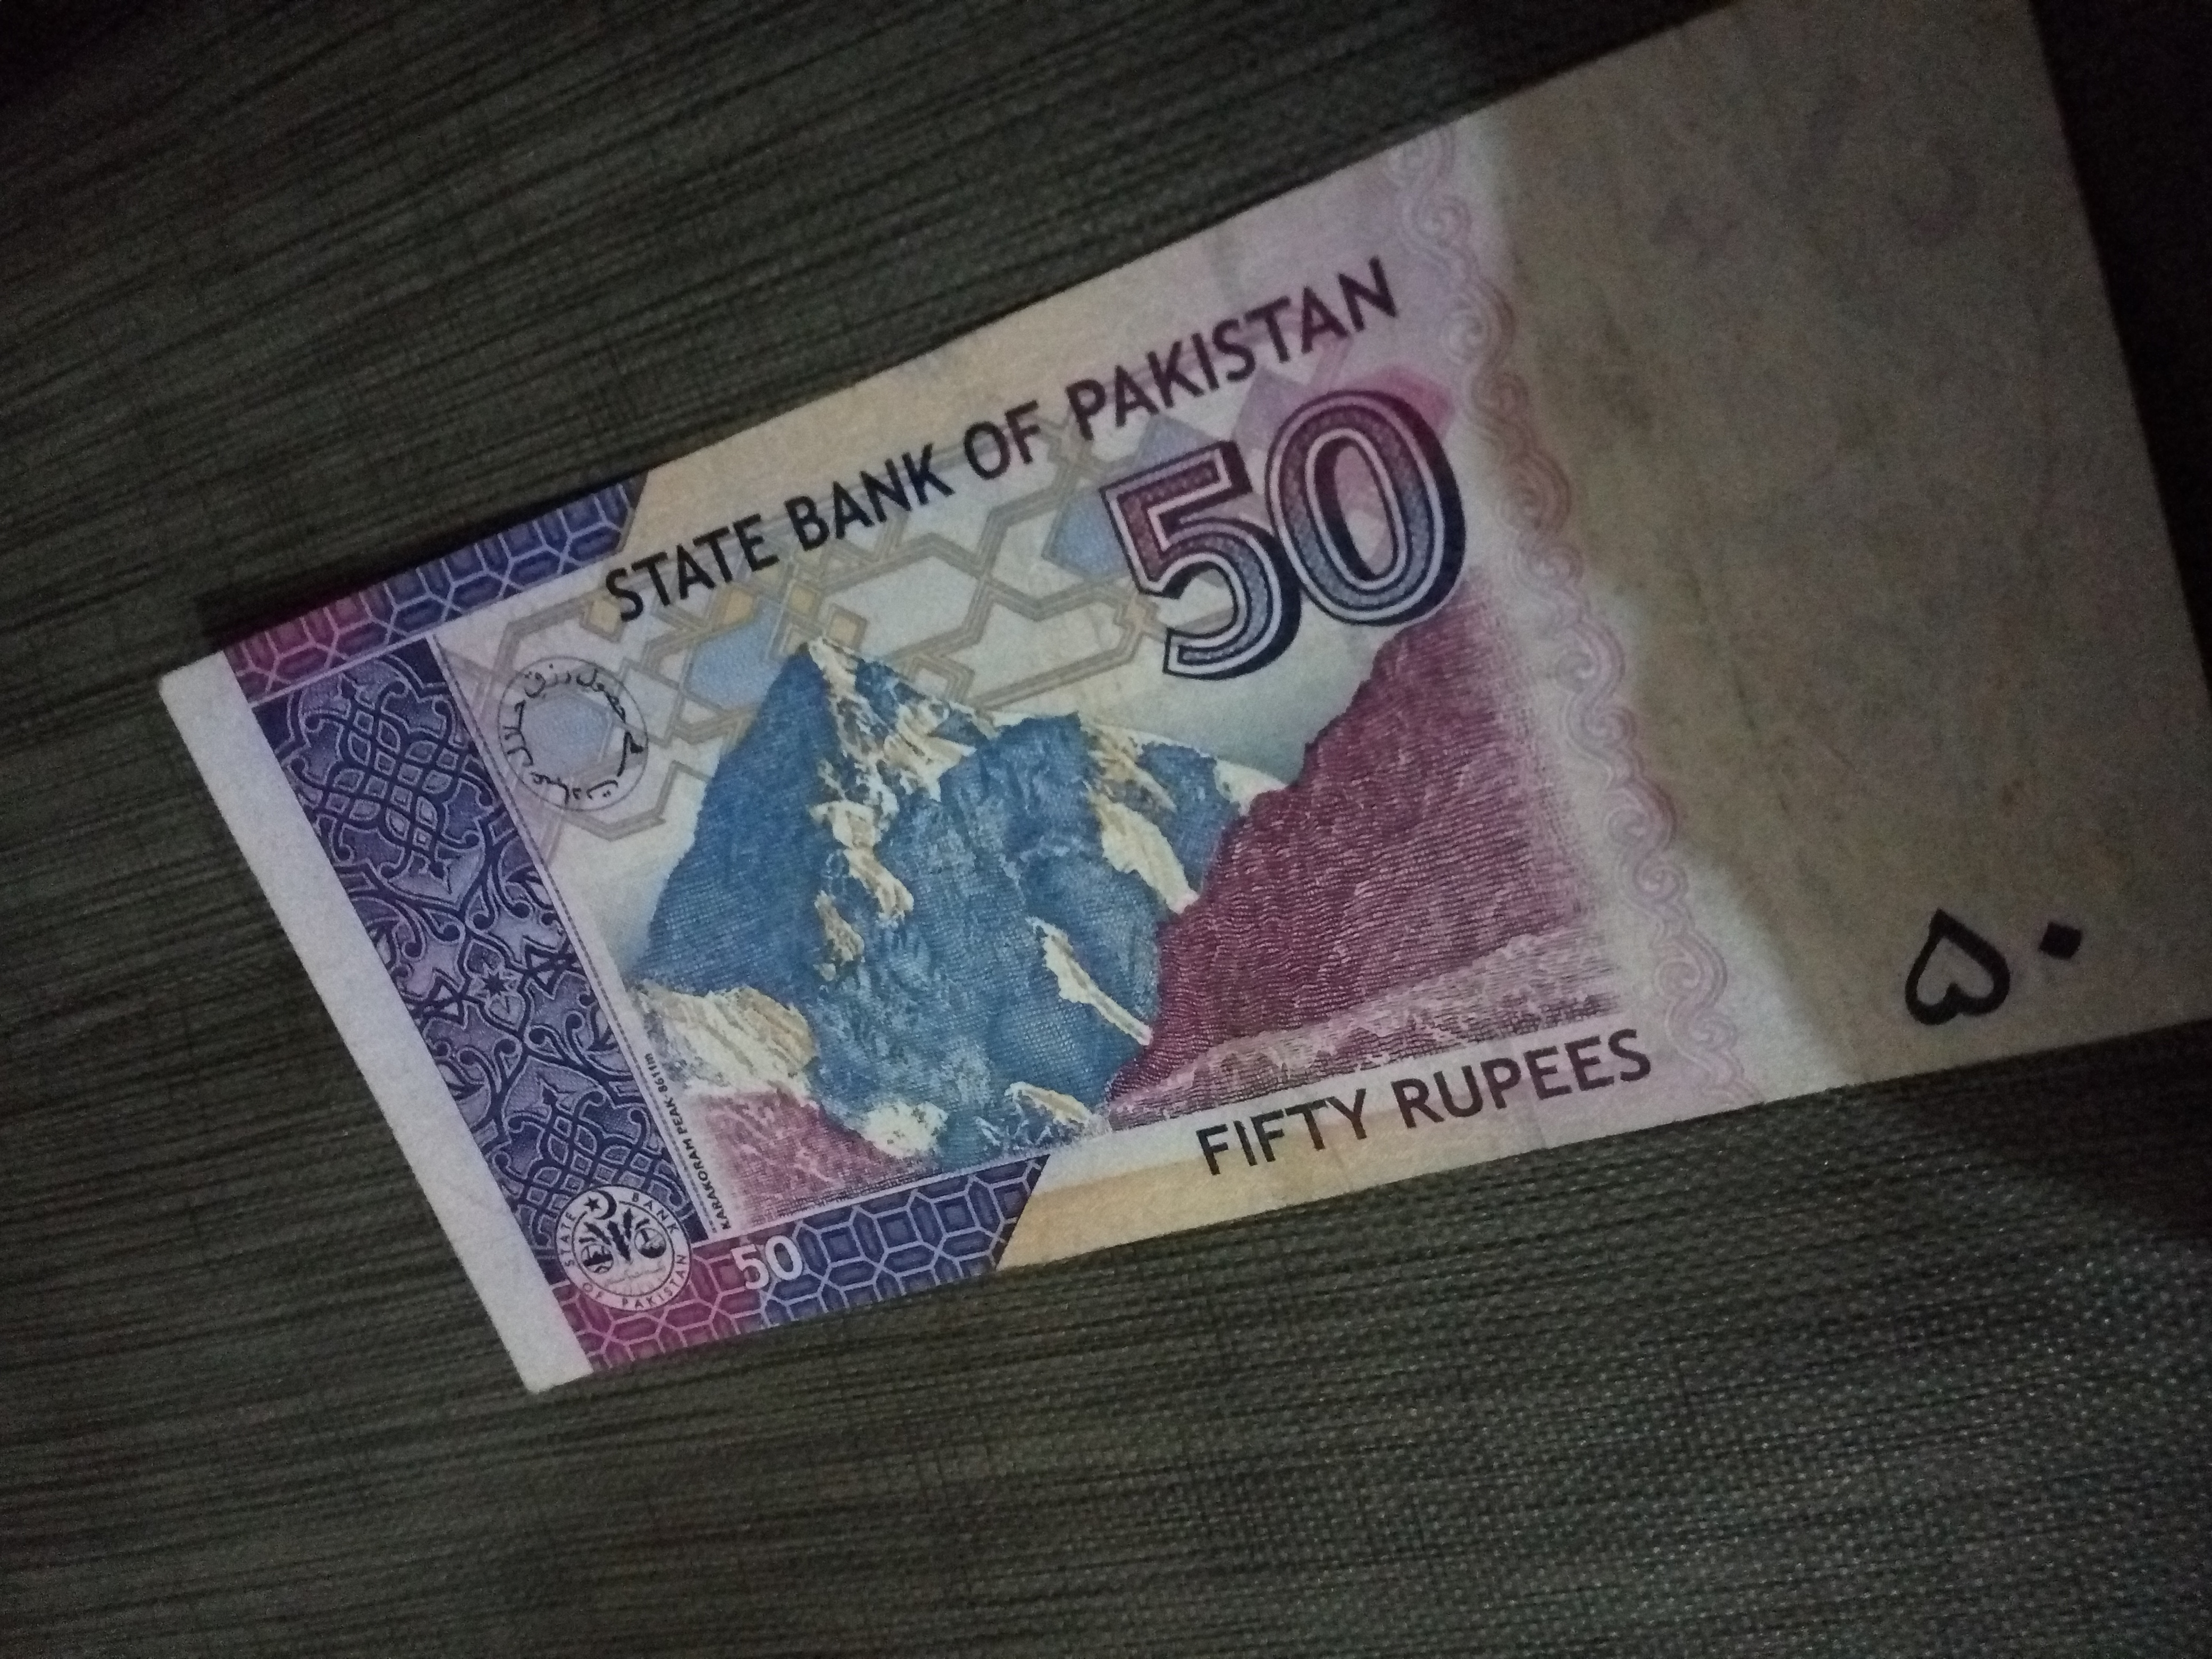50 rupee: (111, 179, 2203, 1460)
